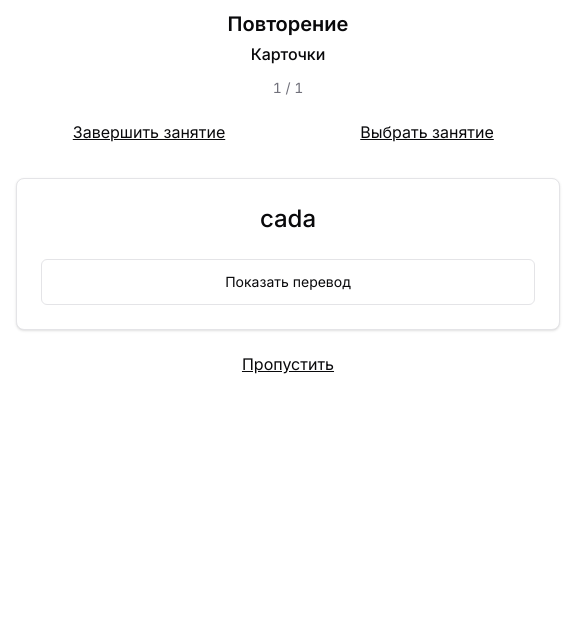
ReviewPage session flow (cards mode) › failed answer keeps card and shows retryable error
Click the button "Показать перевод". click: click(288, 282)
box: [41,259,535,305]
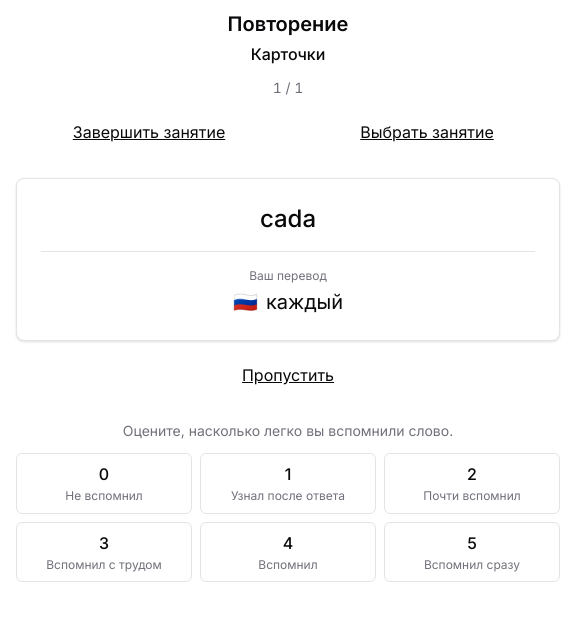
Click the button "4 Вспомнил". click: click(288, 552)
box: [200,522,376,582]
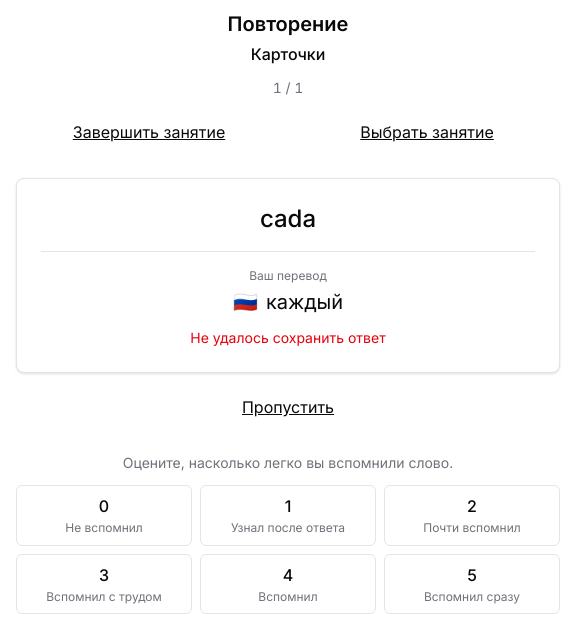
Expected: the text "cada" is shown, [260,204,316,233]
Now the text "Не удалось сохранить ответ" is shown, box [190,329,386,346]
Click the button "4 Вспомнил". click: click(288, 584)
box: [200,554,376,614]
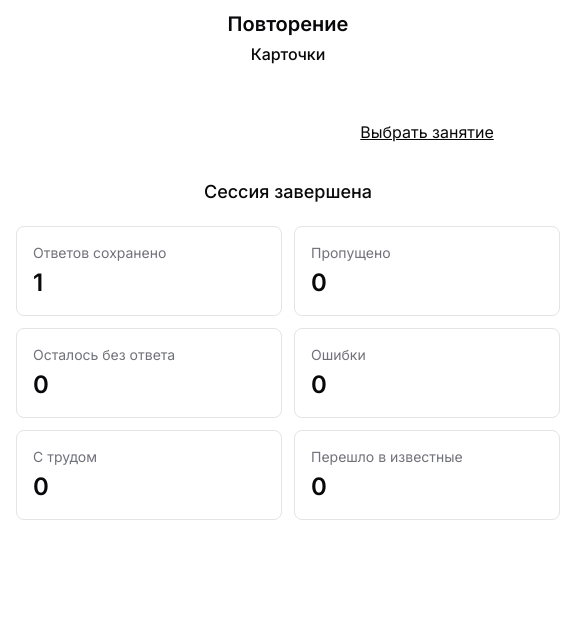
Now the heading "Сессия завершена" is shown, box [204,181,372,202]
